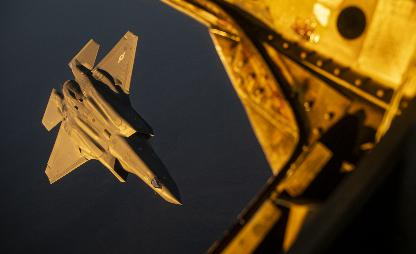F22: (40, 30, 182, 202)
